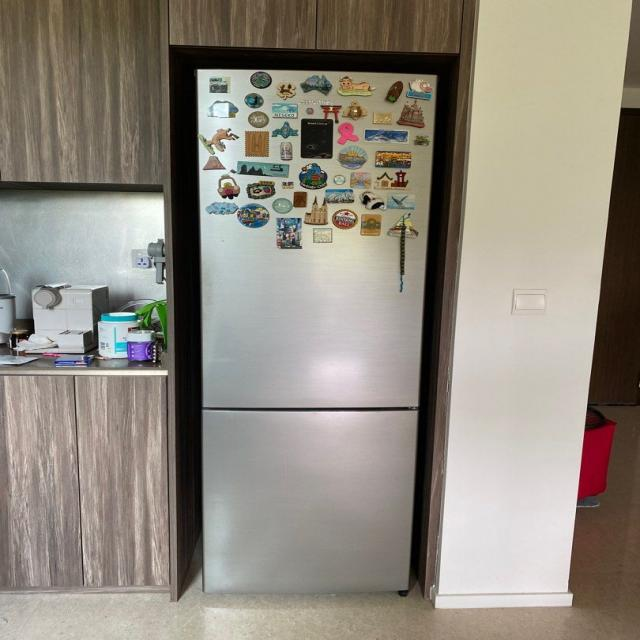refrigerator: (192, 69, 440, 596)
